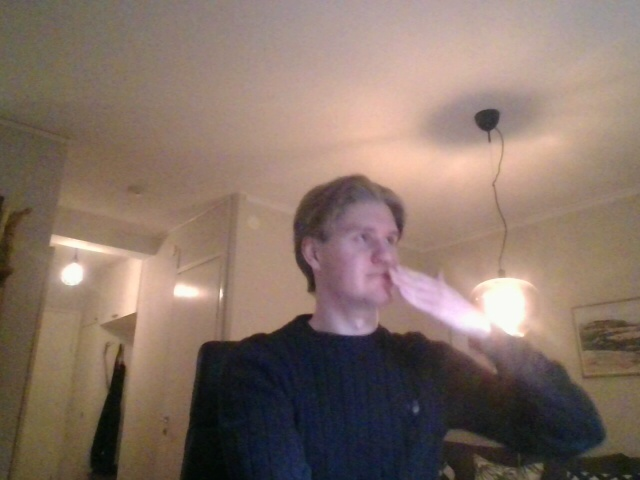ThankYou: (364, 265, 476, 333)
